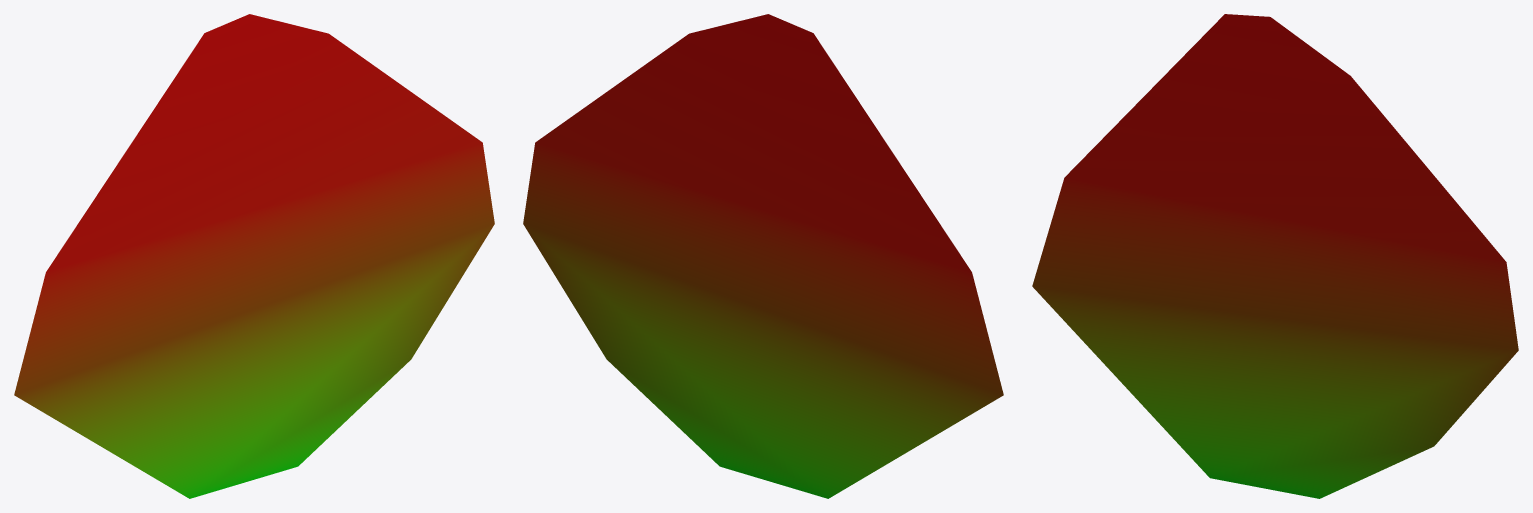
The model's file is Var5_LOD4.fbx.
The picture shows the model from 3 angles, left to right: view 1: azimuth 30°, elevation 25°; view 2: azimuth 150°, elevation 25°; view 3: azimuth 330°, elevation 25°; orthographic projection.
Parts seen in each view (by area): view 1: _33p7_Var5_LOD4; view 2: _33p7_Var5_LOD4; view 3: _33p7_Var5_LOD4.
Boxes of the visible parts, x1,y1,x2,y2 form: _33p7_Var5_LOD4: (14,14,494,498); _33p7_Var5_LOD4: (523,14,1003,498); _33p7_Var5_LOD4: (1032,14,1518,498).
Bounding box in the file's own units: 24.94 × 23.32 × 1.73e-06.
